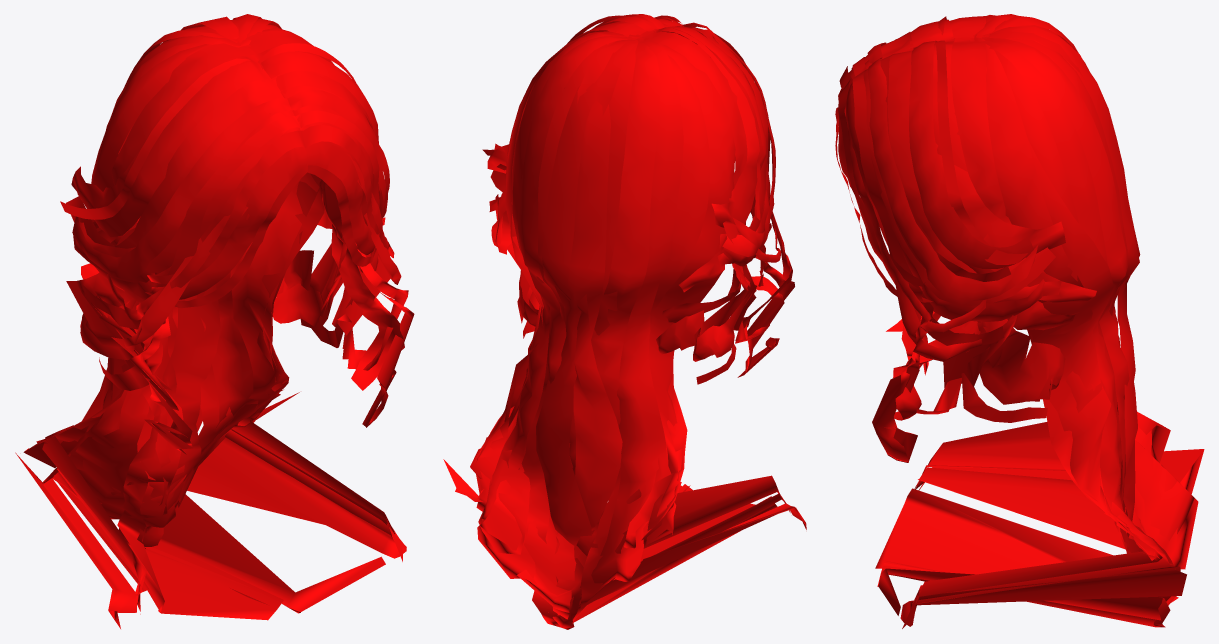
Rendered from elvs_that_80s_babe_hair_F.glb.
3 views of the same model, side by side, from view 1: azimuth 30°, elevation 25°; view 2: azimuth 150°, elevation 25°; view 3: azimuth 270°, elevation 25° (orthographic). The views are drawn at different scales.
Bounding box in the file's own units: 0.2641 × 0.4858 × 0.2722.
Materials: 1 (1 with a texture image).
